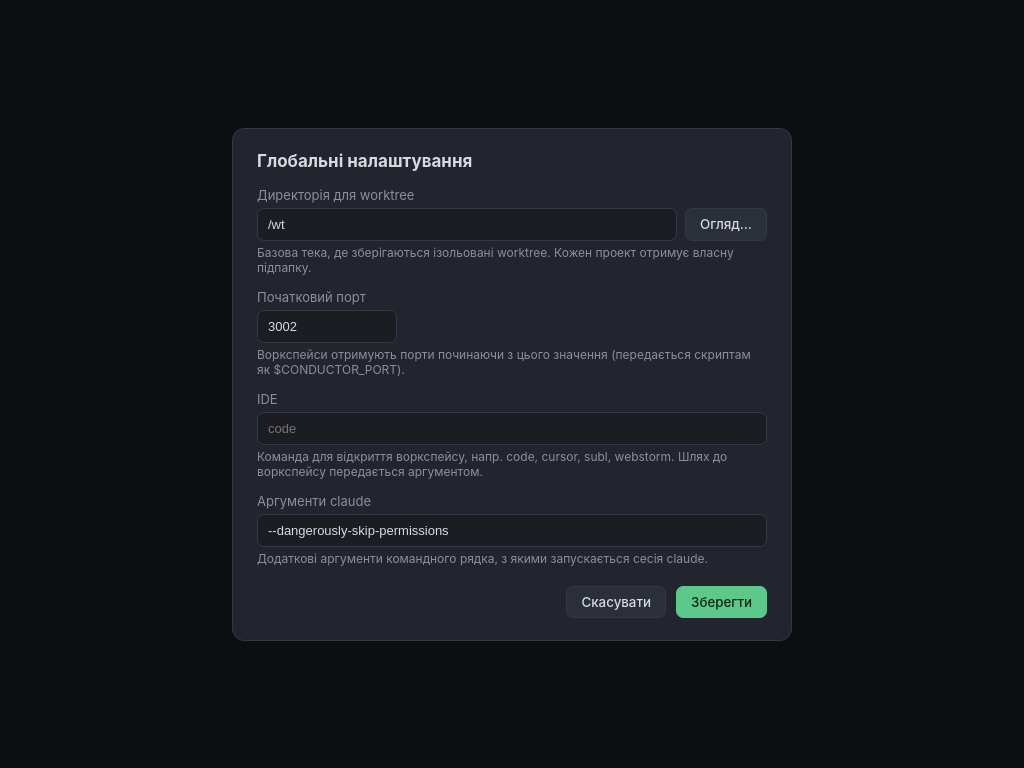
Test: SettingsModal › disables saving when the port is out of range
The width and height of the screenshot is (1024, 768).
Replace the text in the number field showing "3002" with "80": [327, 326] box [257, 310, 397, 342]
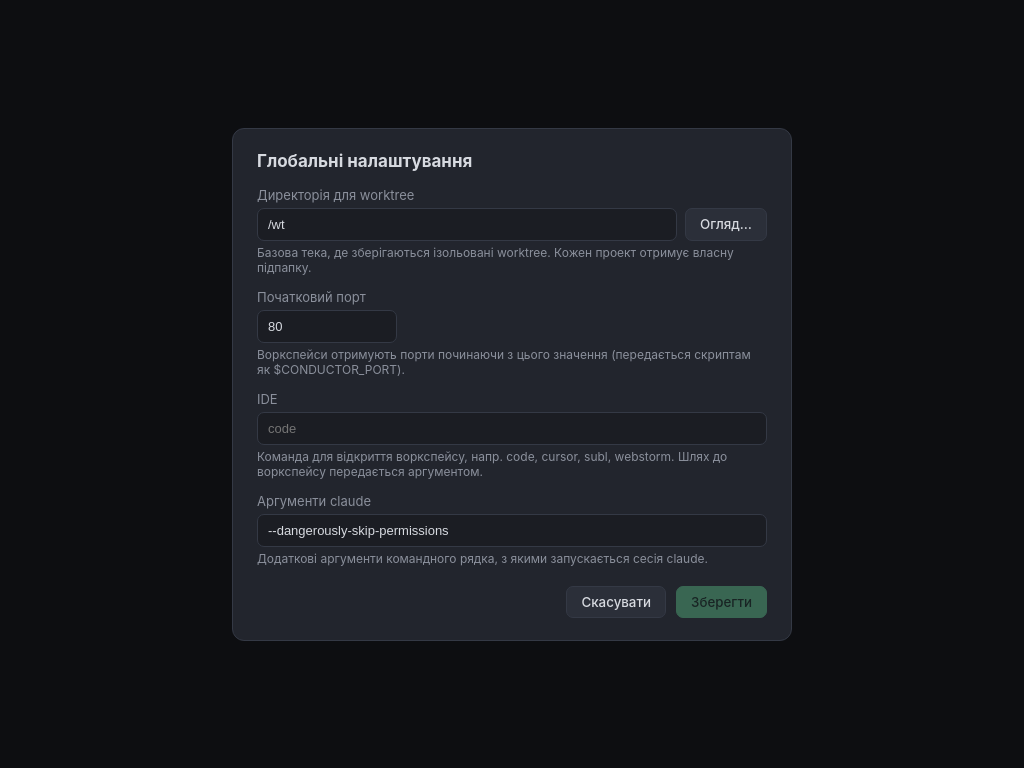
Expected: the button "Зберегти" is disabled, [676, 586, 767, 618]
